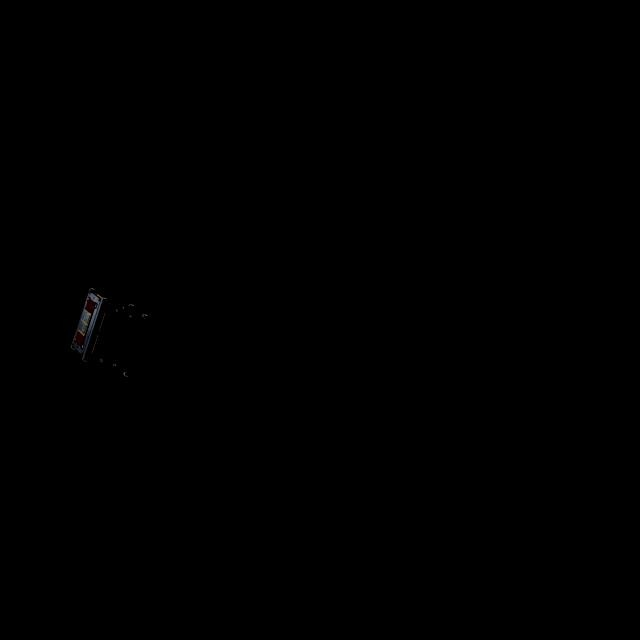medium_debris: (68, 282, 147, 374)
